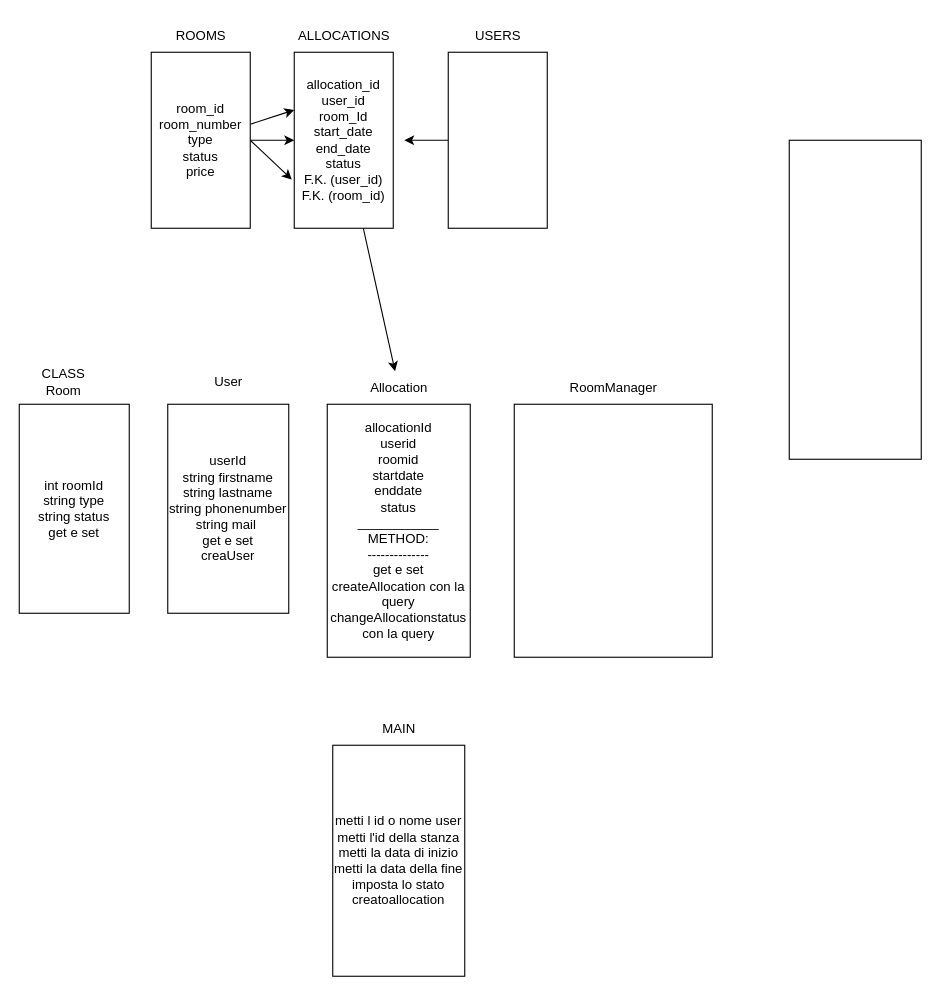
The diagram is 941 pixels wide and 996 high, and some of its shapes have lost their labels. Here are the shapes that lost their labels. From the top down, the box of each, then its label:
(447, 51, 547, 228): user_id first_name last_name email phone_number
(788, 139, 921, 459): DB CONNECTIO HIDED
(513, 403, 712, 657): addRom con query List<room>GetAvailableRoms changeRoomStatus
